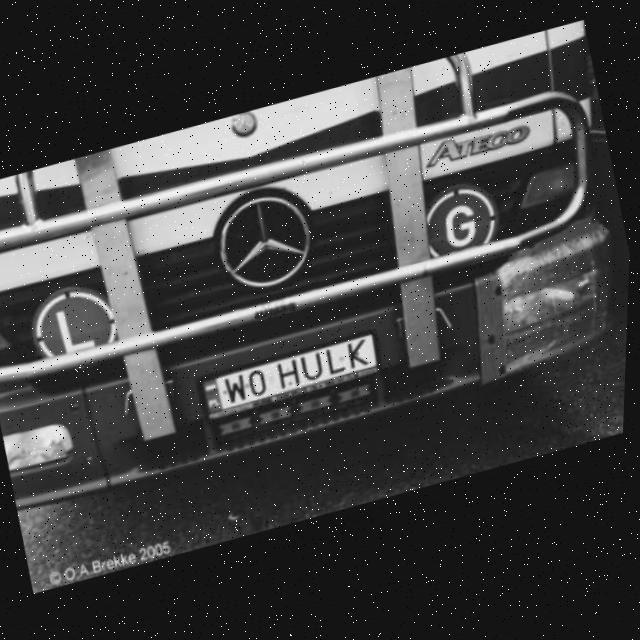license-plates: (204, 334, 378, 419)
